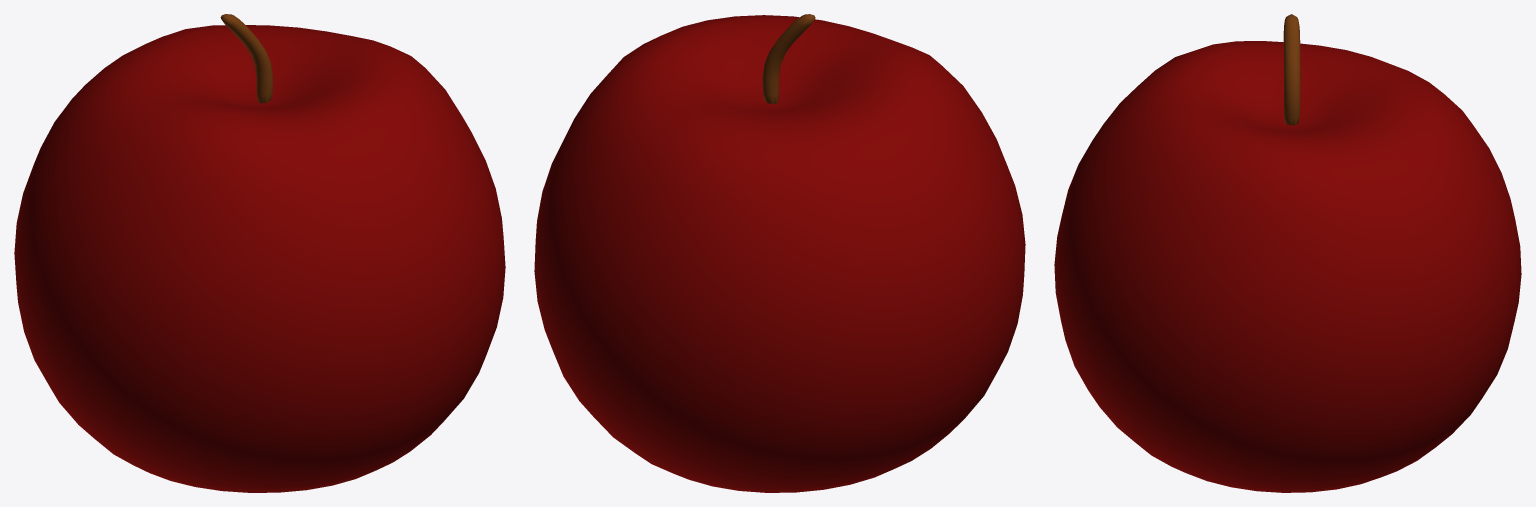
File: apple2.fbx
3 renders of one model, left to right at view 1: azimuth 30°, elevation 25°; view 2: azimuth 150°, elevation 25°; view 3: azimuth 270°, elevation 25°, orthographic. The views are drawn at different scales.
Visible parts, largest first — view 1: 球; view 2: 球; view 3: 球.
Part boxes in pixels (x1,y1,x2,y2): 球: [14, 14, 505, 492]; 球: [534, 14, 1025, 492]; 球: [1054, 14, 1521, 492].
Size of the model in its own units: 771 by 752 by 771.
